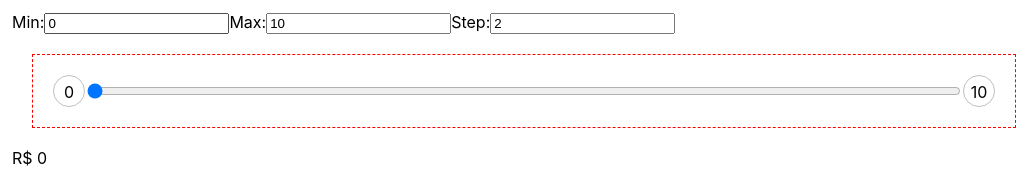
it: Test Range Input › render without exploding
Set the slider to "2" at (267, 91), box [87,77,961,105]
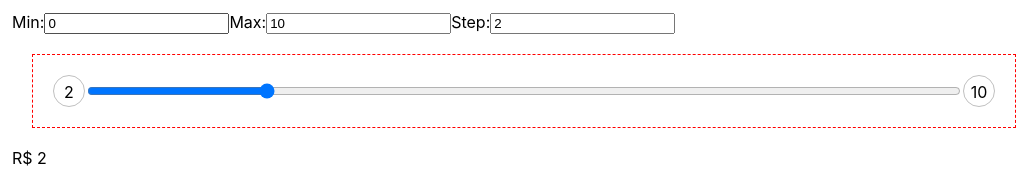
Now the text "2" is shown, box [53,75,85,107]
